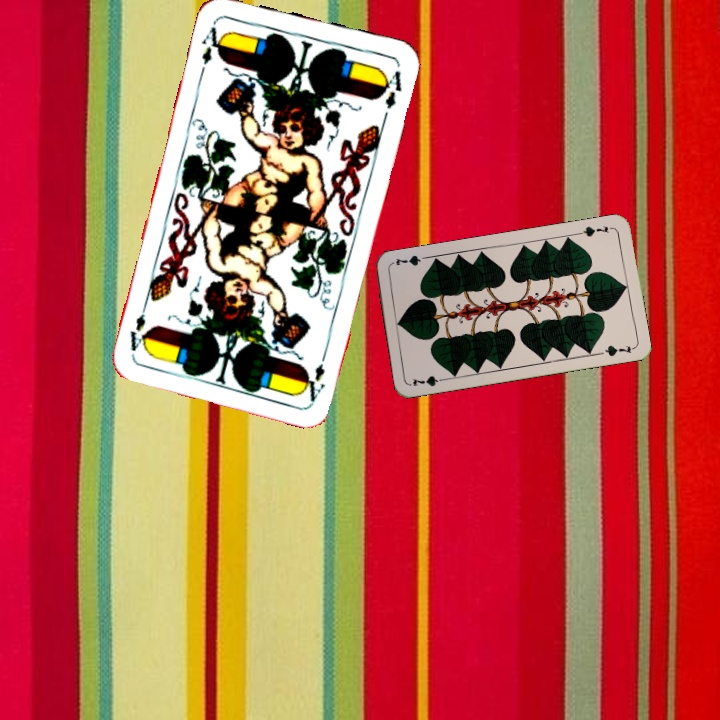EA: (197, 23, 227, 68), (300, 359, 328, 404)
G7: (408, 371, 449, 389), (575, 221, 615, 239)
